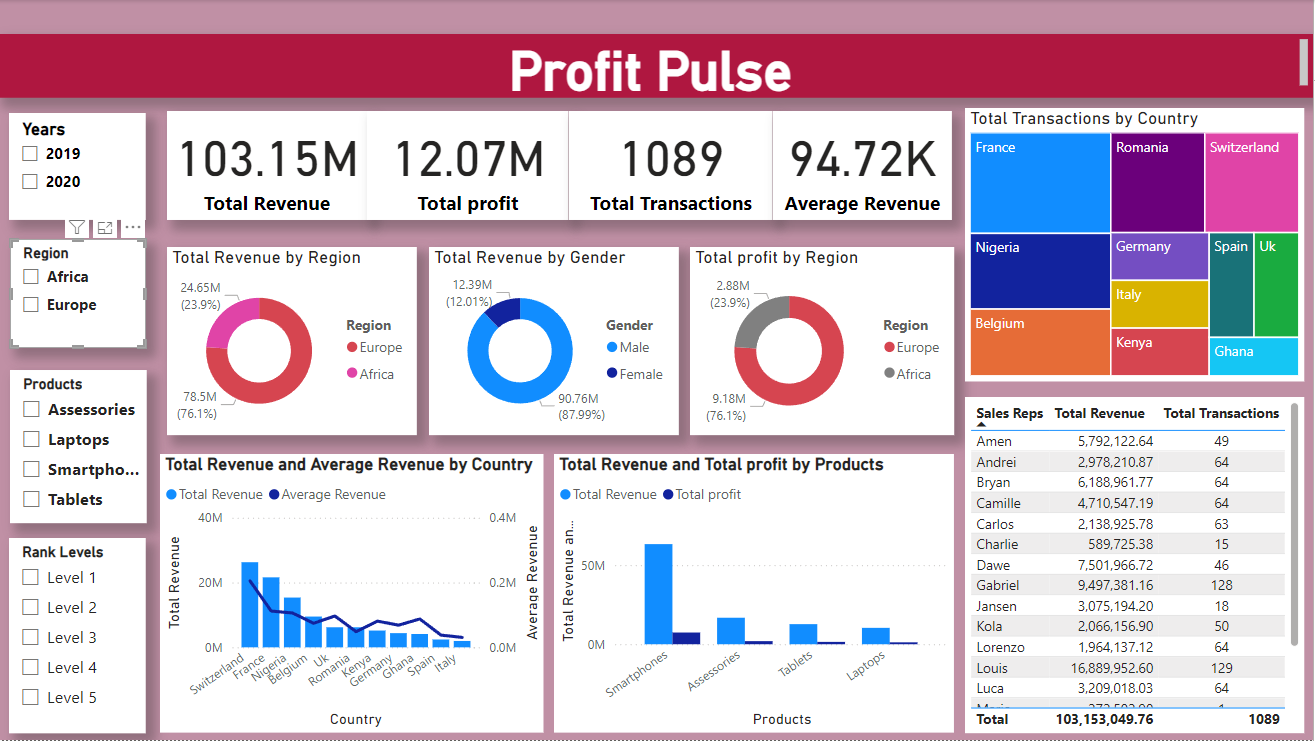

The page's visual inventory and layout, read from the dashboard file:
{"tool":"powerbi","page":{"name":"Page 1","canvas":[1280,720],"ordinal":0},"visuals":[{"type":"textbox","box":[0,33.1,1280,62.2],"z":0},{"type":"slicer","fields":{"Values":["Details.Years"]},"box":[11.7,109.9,133.3,104.1],"z":1000},{"type":"slicer","fields":{"Values":["Details.Region"]},"box":[12.6,232.5,132.3,106],"z":2000},{"type":"slicer","fields":{"Values":["Details.Products"]},"box":[12.6,359.9,133.3,148.8],"z":3000},{"type":"slicer","fields":{"Values":["Details.Rank Levels"]},"box":[11.7,523.3,133.3,189.7],"z":4000},{"type":"card","fields":{"Values":["Details.Total Revenue"]},"box":[165.3,108,194.5,106],"z":5000},{"type":"card","fields":{"Values":["Details.Total profit"]},"box":[359.9,108,196.5,106],"z":6000},{"type":"card","fields":{"Values":["Details.Total Transactions"]},"box":[556.4,108,198.4,106],"z":7000},{"type":"card","fields":{"Values":["Details.Average Revenue"]},"box":[754.8,108,174.1,106],"z":9000},{"type":"donutChart","fields":{"Y":["Details.Total Revenue"],"Category":["Details.Region"]},"box":[165.3,240.2,243.2,182.9],"z":10000},{"type":"donutChart","fields":{"Y":["Details.Total Revenue"],"Category":["Details.Gender"]},"box":[419.9,240.2,243.2,182.9],"z":11000},{"type":"donutChart","fields":{"Category":["Details.Region"],"Y":["Details.Total profit"]},"box":[674.4,240.2,256.8,182.9],"z":12000},{"type":"treemap","fields":{"Values":["Details.Total Transactions"],"Group":["Details.Country"]},"box":[941.5,105,329.7,265.5],"z":13000},{"type":"lineStackedColumnComboChart","fields":{"Y":["Details.Total Revenue"],"Category":["Details.Country"],"Y2":["Details.Average Revenue"]},"box":[158.5,441.6,373.5,271.4],"z":14000},{"type":"clusteredColumnChart","fields":{"Y":["Details.Total Revenue","Details.Total profit"],"Category":["Details.Products"]},"box":[541.8,441.6,389.1,271.4],"z":15000},{"type":"tableEx","fields":{"Values":["Details.Sales Reps","Details.Total Revenue","Details.Total Transactions"]},"box":[941.5,386.1,329.7,326.8],"z":16000}]}

Visuals, with their boxes in screenshot pixels (x1, y1, x2, y2), scaled from the page's 1280x720 canvas onto the 1315x741 screenshot:
textbox: crop(0, 34, 1314, 98)
slicer - Details.Years: crop(12, 113, 149, 220)
slicer - Details.Region: crop(13, 239, 149, 348)
slicer - Details.Products: crop(13, 370, 150, 524)
slicer - Details.Rank Levels: crop(12, 539, 149, 734)
card - Details.Total Revenue: crop(170, 111, 370, 220)
card - Details.Total profit: crop(370, 111, 572, 220)
card - Details.Total Transactions: crop(572, 111, 775, 220)
card - Details.Average Revenue: crop(775, 111, 954, 220)
donutChart - Details.Total Revenue x Details.Region: crop(170, 247, 420, 435)
donutChart - Details.Total Revenue x Details.Gender: crop(431, 247, 681, 435)
donutChart - Details.Region x Details.Total profit: crop(693, 247, 957, 435)
treemap - Details.Total Transactions x Details.Country: crop(967, 108, 1306, 381)
lineStackedColumnComboChart - Details.Total Revenue x Details.Country: crop(163, 454, 547, 734)
clusteredColumnChart - Details.Total Revenue x Details.Total profit: crop(557, 454, 956, 734)
tableEx - Details.Sales Reps x Details.Total Revenue: crop(967, 397, 1306, 734)
